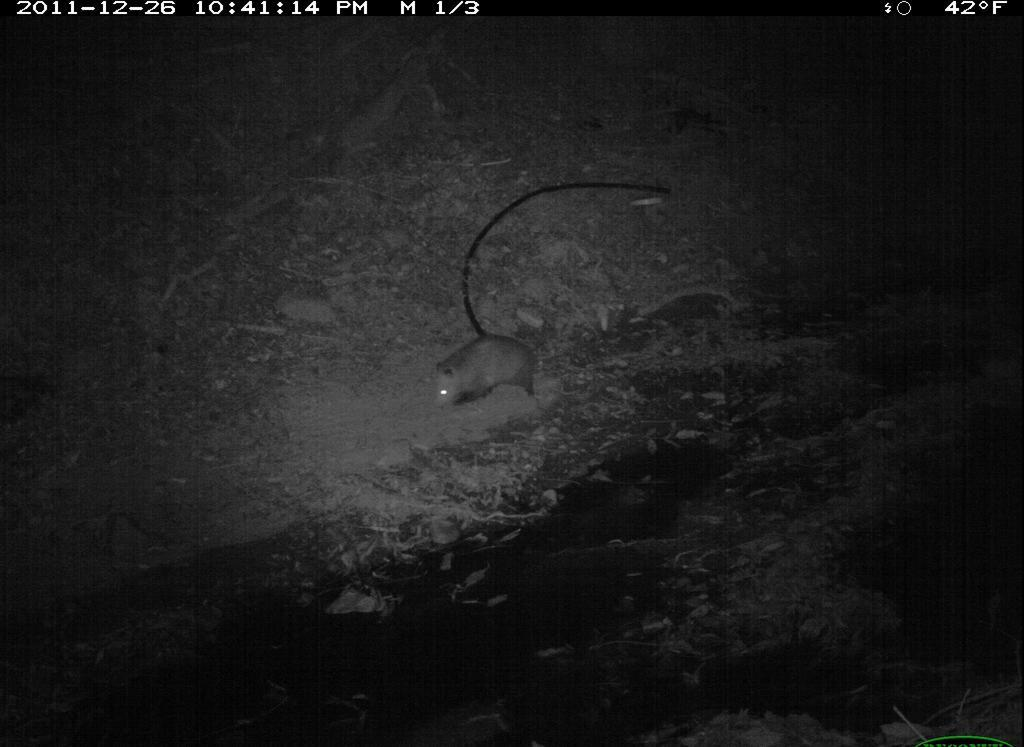opossum: (427, 320, 599, 413)
